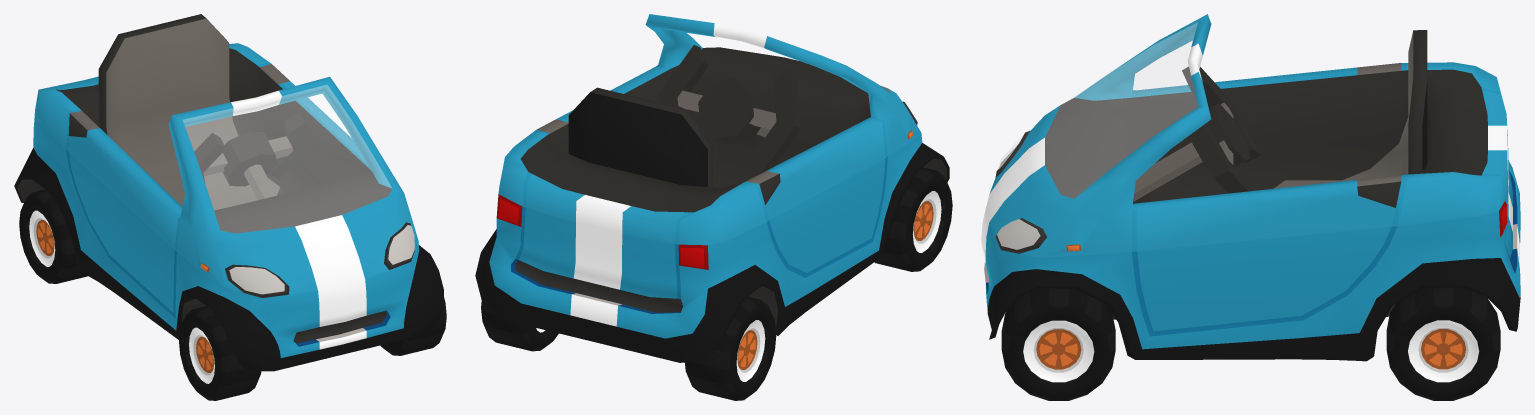
The model's file is stop_car.glb.
The picture shows the model from 3 angles, left to right: view 1: azimuth 30°, elevation 25°; view 2: azimuth 150°, elevation 25°; view 3: azimuth 270°, elevation 25°; orthographic projection. The views are drawn at different scales.
Parts seen in each view (by area): view 1: stop_car, stop_car_glass; view 2: stop_car; view 3: stop_car, stop_car_glass.
Boxes of the visible parts, x1=… form: stop_car: x1=14, y1=14, x2=446, y2=400; stop_car_glass: x1=183, y1=85, x2=414, y2=297; stop_car: x1=475, y1=14, x2=952, y2=400; stop_car: x1=981, y1=14, x2=1520, y2=400; stop_car_glass: x1=995, y1=22, x2=1197, y2=253.
Size of the model in its own units: 2.23 by 2.19 by 3.79.
Materials: 1 (1 with a texture image).
